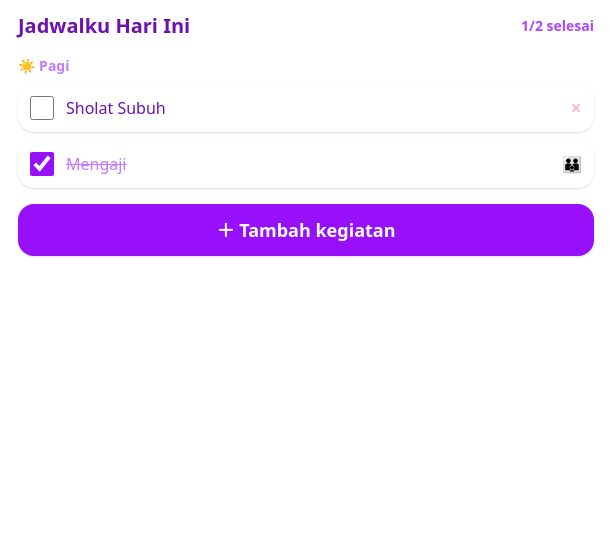
Schedule › shows an error (not silent) when creating a task fails
The image size is (611, 558).
Check: the text "Sholat Subuh" is shown, box [66,97,166,119]
Click the button "＋ Tambah kegiatan": point(306, 230) [18,204,594,256]
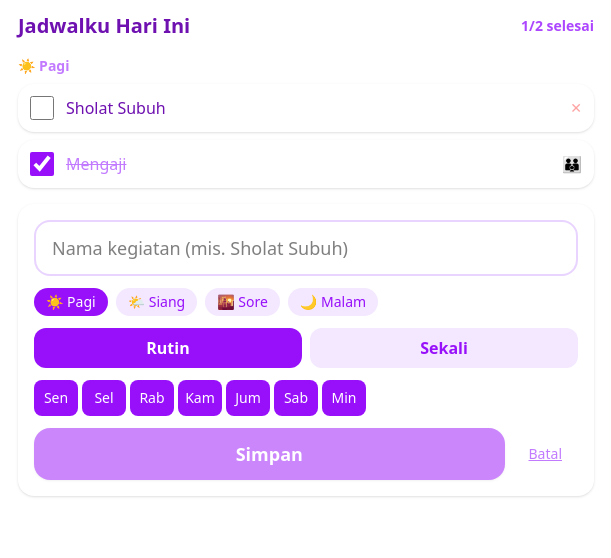
In the field with placeholder "Nama kegiatan (mis. Sholat Subuh)": point(306, 248) [34,220,578,276], type "Beresin mainan"
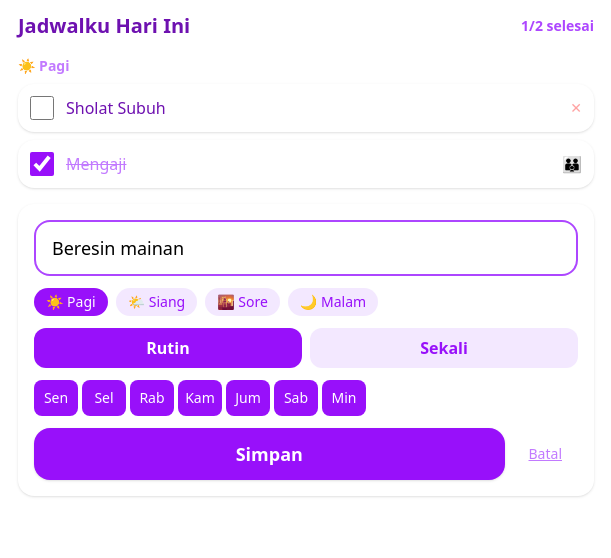
Click the button "Simpan": point(269, 454) [34,428,504,480]
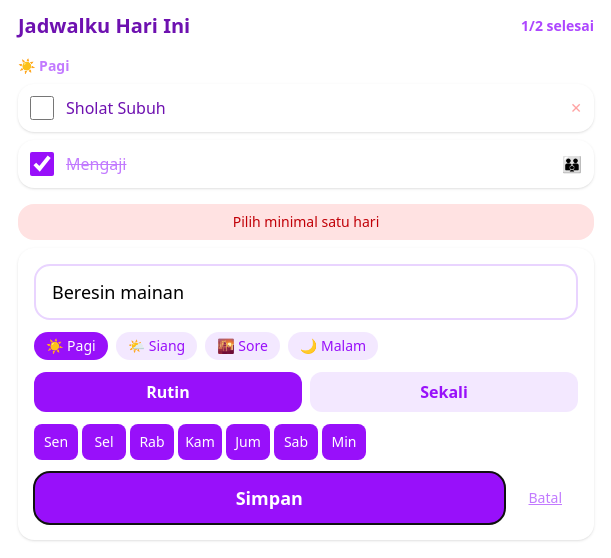
Check: the text "Pilih minimal satu hari" is shown, box [18,204,594,240]
